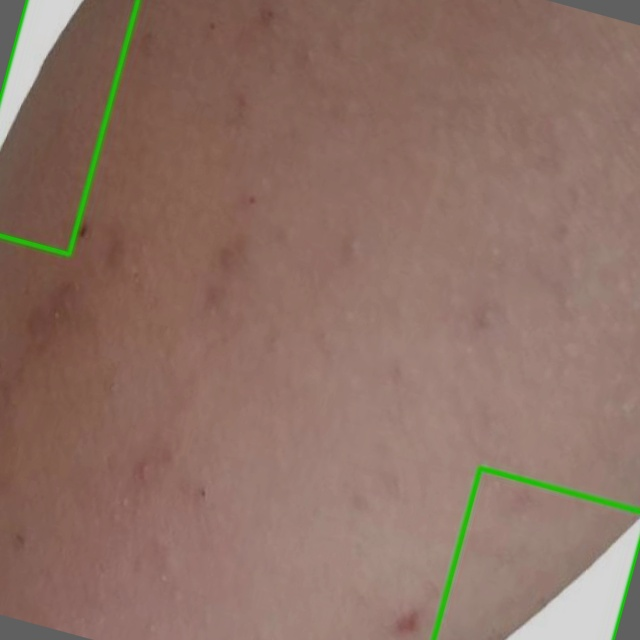Scabies: (0, 0, 138, 254)
